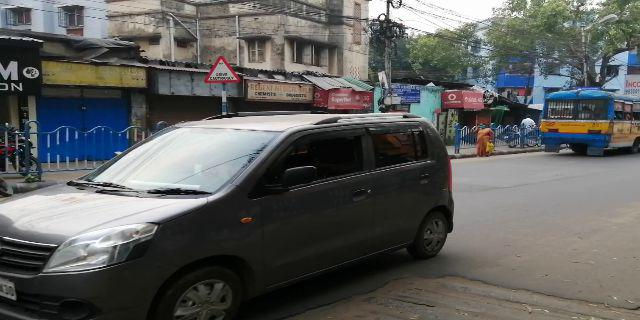Bus: (536, 89, 635, 151)
Car: (8, 119, 460, 292)
